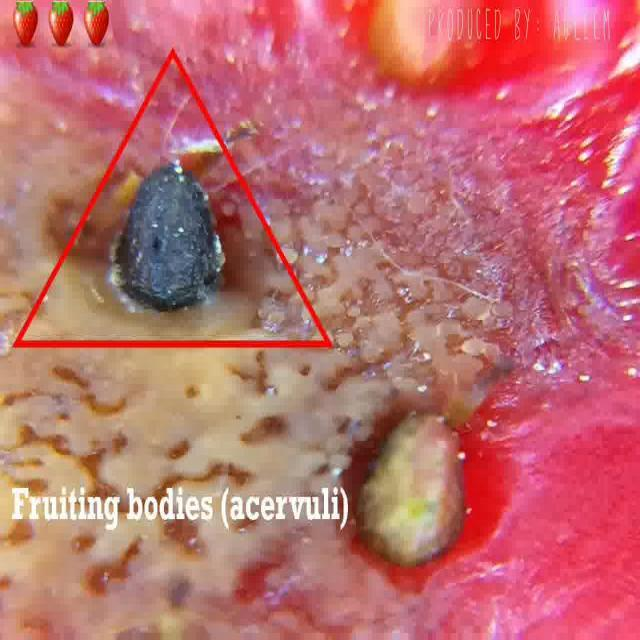Mancha negra Antracnosis: (26, 73, 628, 635)
